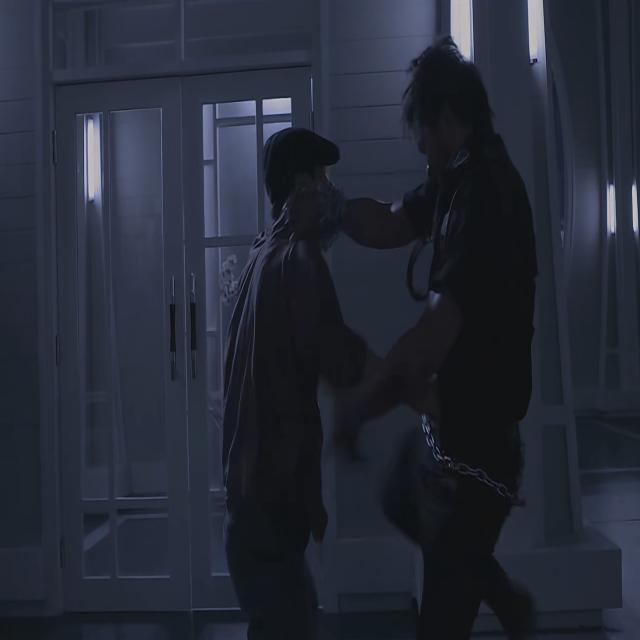fight: (219, 33, 539, 640)
